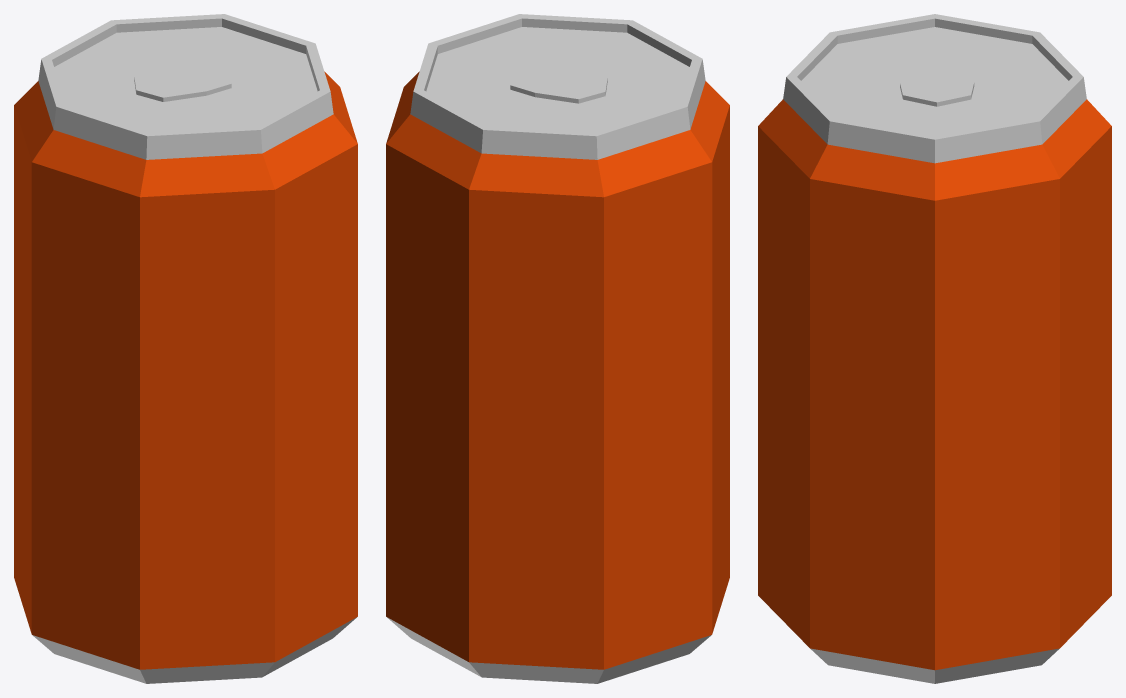
The model's file is C_Juice_Can_3.fbx.
3 renders of one model, left to right at view 1: azimuth 30°, elevation 25°; view 2: azimuth 150°, elevation 25°; view 3: azimuth 270°, elevation 25°, orthographic.
Parts seen in each view (by area): view 1: C_Juice_Can_3; view 2: C_Juice_Can_3; view 3: C_Juice_Can_3.
Part boxes in pixels (x1,y1,x2,y2): C_Juice_Can_3: (14, 14, 357, 683); C_Juice_Can_3: (386, 14, 729, 683); C_Juice_Can_3: (758, 14, 1111, 683).
Bounding box in the file's own units: 62.64 × 62.64 × 106.
